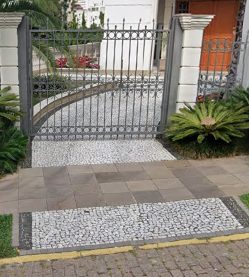vag3: (1, 202, 247, 266)
